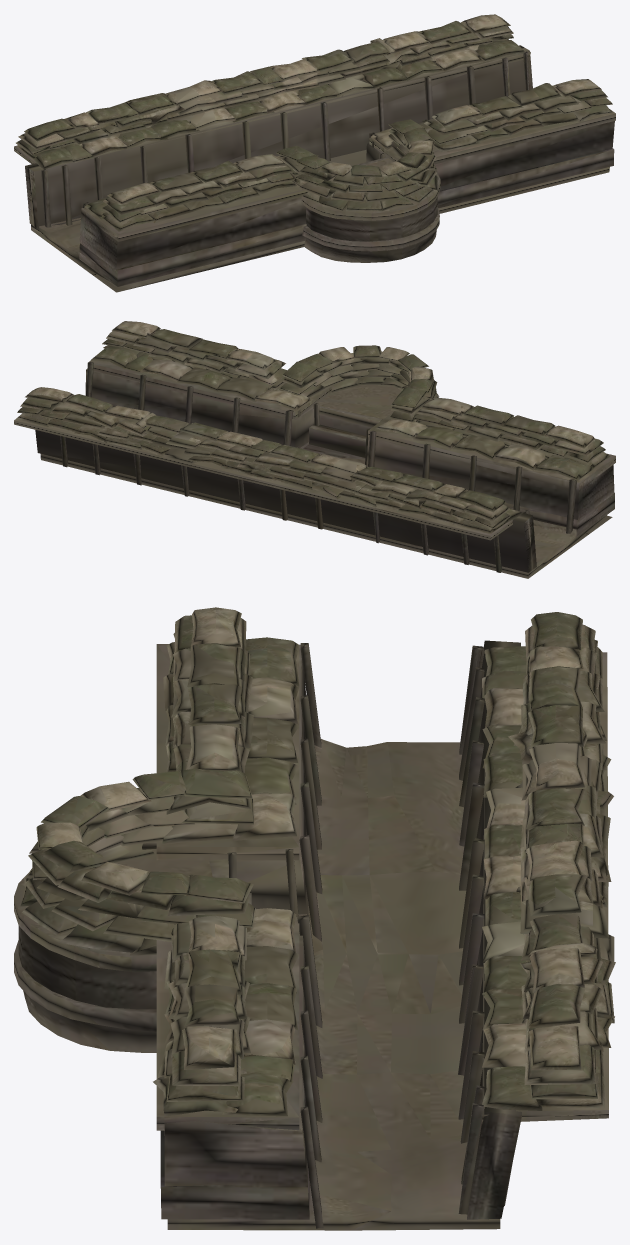
Rendered from trench.glb.
The picture shows the model from 3 angles, top to bottom: view 1: azimuth 30°, elevation 25°; view 2: azimuth 150°, elevation 25°; view 3: azimuth 270°, elevation 25°; orthographic projection. The views are drawn at different scales.
Parts seen in each view (by area): view 1: hull; view 2: hull; view 3: hull.
Part boxes in pixels (x1,y1,x2,y2): hull: [14, 14, 615, 292]; hull: [14, 321, 615, 578]; hull: [14, 607, 615, 1230].
Size of the model in its own units: 7.16 by 1.23 by 3.84.
3 materials, 3 textured.
